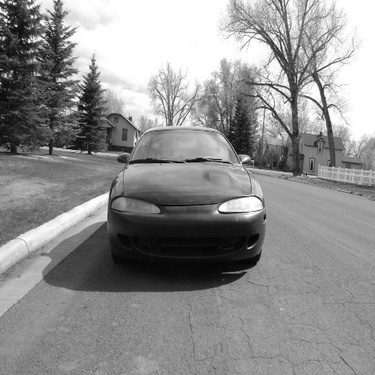car: (94, 115, 279, 282)
